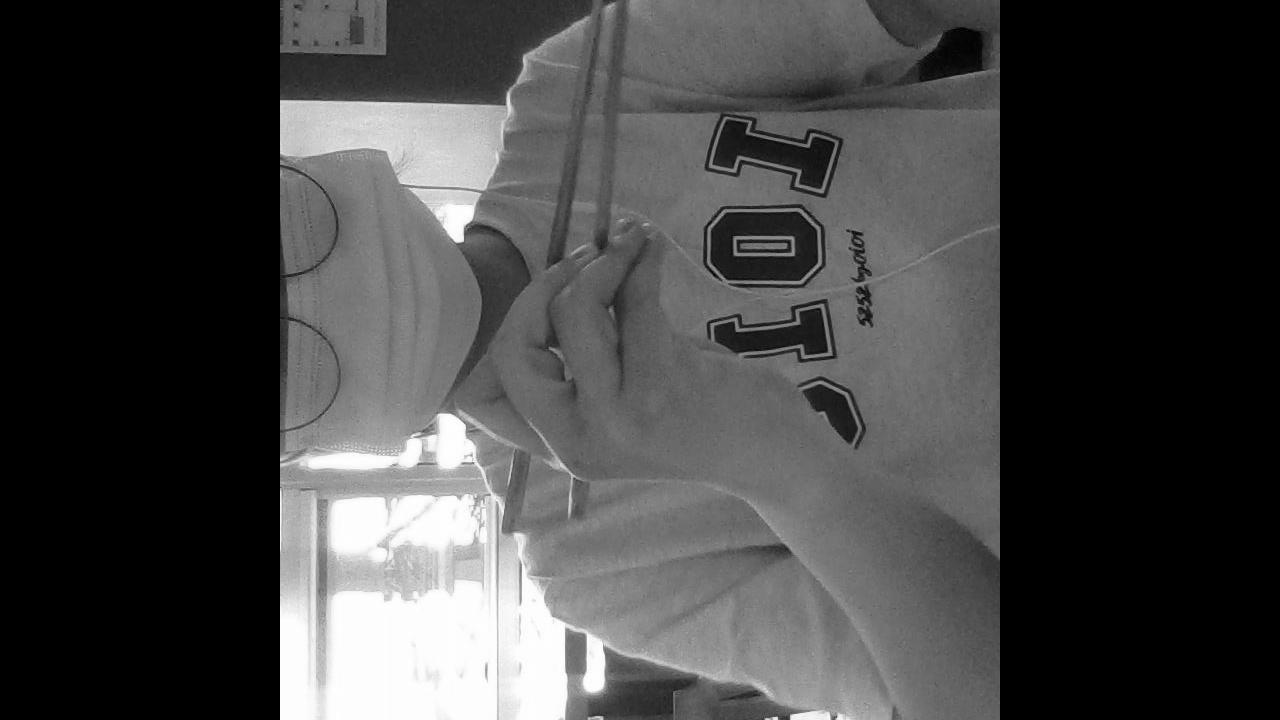chopstick: (502, 0, 608, 537), (569, 0, 637, 525)
hand: (455, 217, 814, 496)
